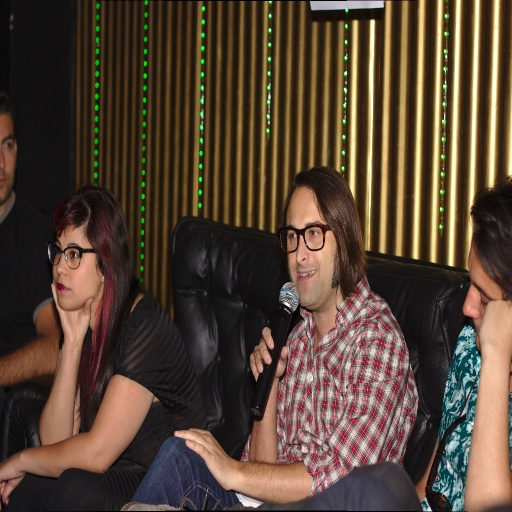hand: (178, 433, 239, 488), (50, 280, 93, 347), (247, 325, 287, 385), (476, 298, 511, 356), (0, 453, 24, 507)
